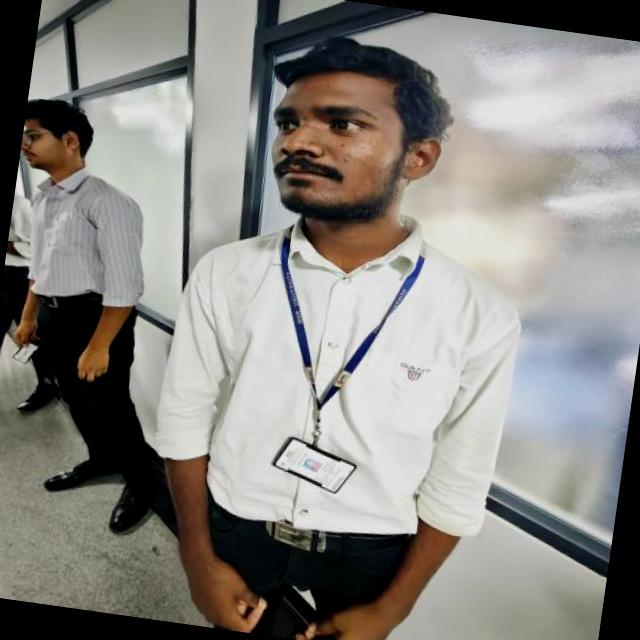Card: (274, 437, 356, 492)
Id strap: (281, 229, 424, 412)
